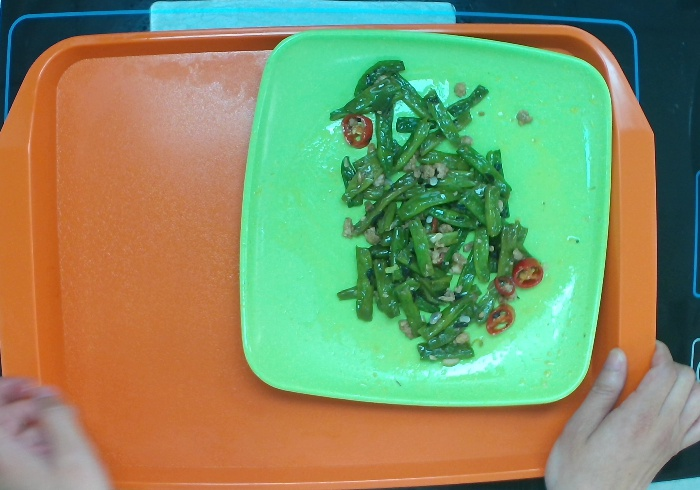ZNLD-Lv_Fang_Pan: (231, 23, 619, 409)
